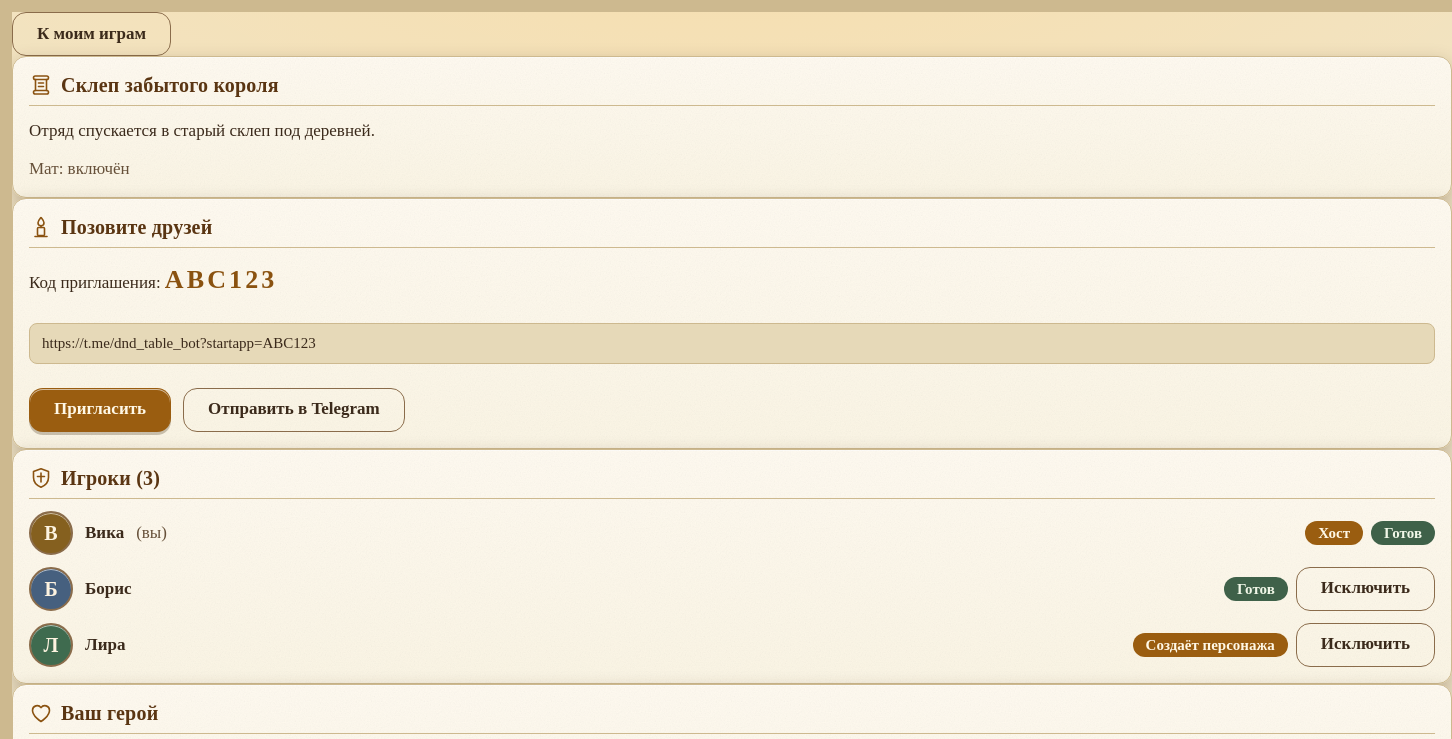
Test: «Пригласить» — только хост › сбой SDK при отправке показан понятным текстом
Expected: the text "https://t.me/dnd_table_bot?startapp=ABC123" is shown, [29,323,1435,364]
Click the button "Отправить в Telegram".
click(294, 410)  # box [183,388,405,432]
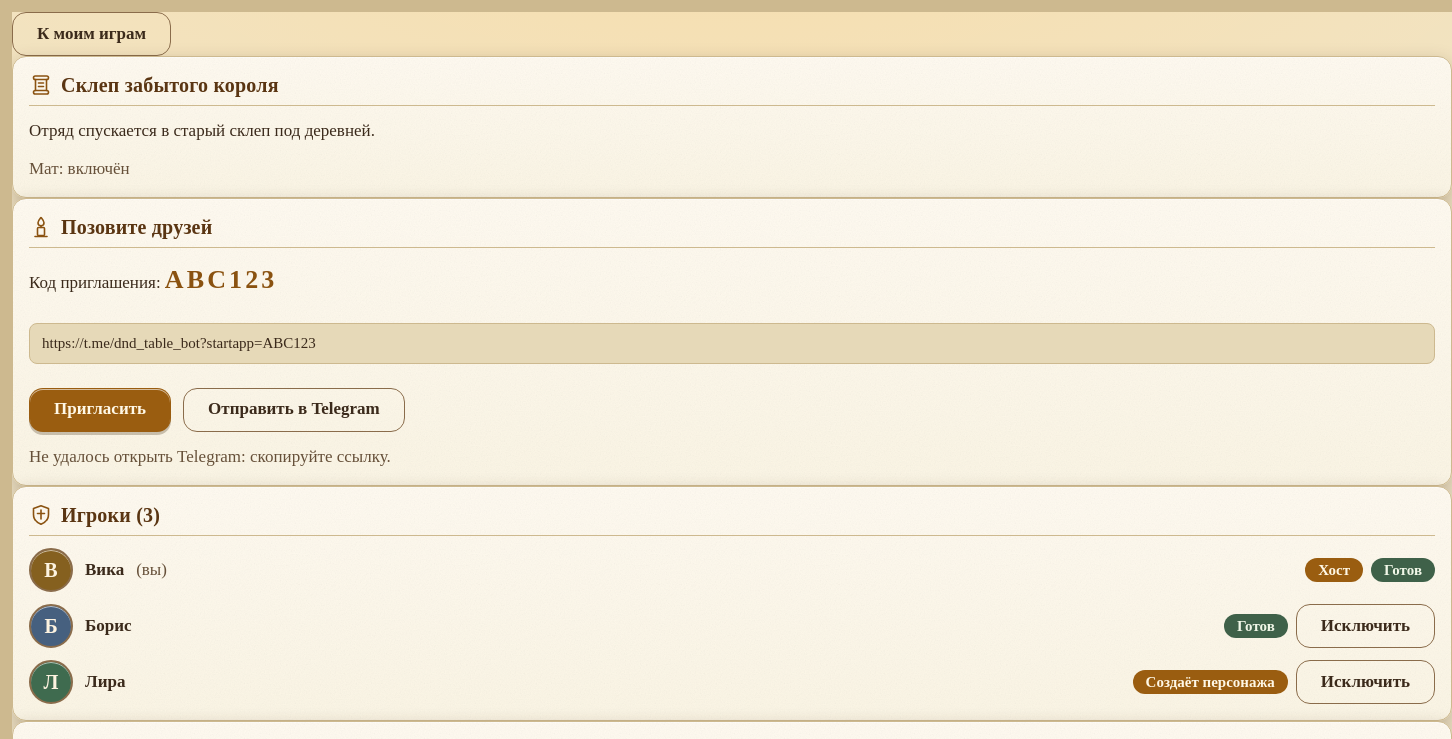
Result: the message shows "Не удалось открыть Telegram" at [29,446,391,466]
